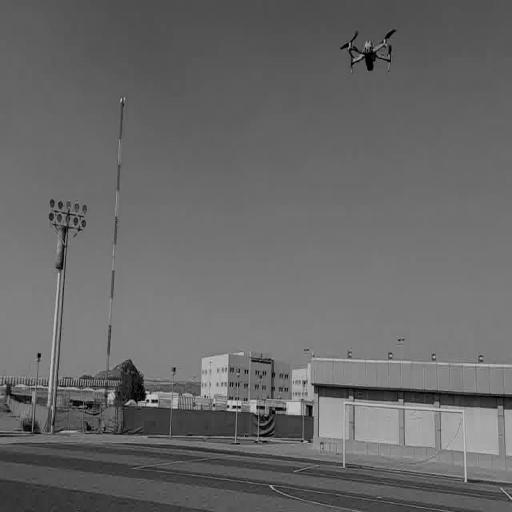drone: (337, 28, 398, 73)
